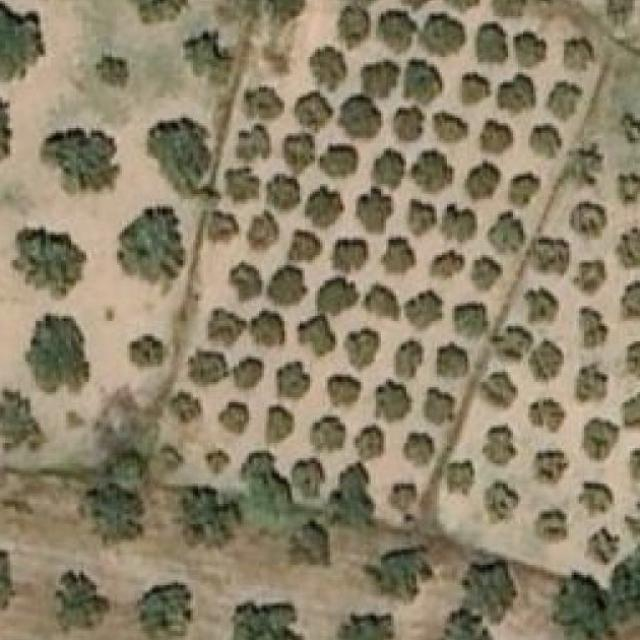Tree: (39, 128, 123, 199), (14, 224, 90, 298), (117, 204, 186, 284), (29, 313, 90, 392), (550, 572, 614, 640), (183, 486, 244, 550), (0, 0, 45, 80), (56, 570, 110, 634), (137, 582, 193, 640), (81, 487, 137, 542), (330, 464, 374, 534), (0, 390, 46, 456), (232, 600, 306, 640), (611, 546, 640, 640), (182, 30, 232, 84), (163, 120, 208, 179), (467, 560, 511, 618), (371, 550, 422, 600), (338, 0, 382, 47), (412, 148, 455, 194), (308, 44, 348, 92), (342, 326, 381, 375), (404, 60, 445, 106), (425, 11, 465, 57), (305, 184, 345, 229), (404, 289, 445, 332), (496, 75, 536, 119), (295, 316, 335, 360), (581, 418, 620, 463), (315, 275, 359, 314), (127, 0, 188, 28), (332, 612, 393, 640), (267, 265, 308, 306), (569, 202, 607, 243), (488, 212, 526, 253), (439, 202, 477, 243), (528, 240, 572, 275), (528, 394, 567, 433), (571, 365, 609, 405), (486, 482, 521, 525), (576, 481, 615, 519), (188, 349, 229, 385), (438, 610, 487, 640), (465, 162, 501, 202), (547, 80, 582, 121), (290, 522, 325, 563), (328, 238, 369, 273), (359, 192, 394, 233), (483, 426, 516, 469), (467, 255, 503, 294), (282, 130, 318, 169), (384, 235, 420, 273), (523, 286, 559, 324), (295, 92, 333, 128), (267, 174, 303, 212), (274, 362, 310, 400), (340, 98, 379, 133), (325, 375, 364, 410), (244, 214, 279, 253), (364, 282, 399, 321), (127, 336, 171, 367), (264, 402, 295, 446), (376, 382, 409, 423), (361, 57, 399, 92), (533, 451, 569, 487), (323, 146, 359, 182), (234, 355, 264, 398), (528, 123, 564, 158), (379, 11, 414, 47), (478, 369, 515, 403), (97, 49, 130, 87), (244, 87, 284, 118), (237, 126, 272, 161), (481, 118, 516, 153), (288, 230, 323, 265), (457, 72, 491, 108), (584, 527, 618, 563), (561, 37, 595, 73), (477, 23, 508, 62), (406, 199, 437, 238), (394, 338, 425, 377), (232, 262, 262, 301), (574, 260, 604, 299), (313, 416, 346, 451), (227, 167, 260, 202), (614, 227, 640, 271), (432, 111, 470, 141), (289, 458, 318, 497), (440, 461, 473, 495), (581, 308, 610, 346), (508, 172, 541, 205), (252, 311, 285, 344), (394, 106, 425, 141), (374, 151, 404, 187), (218, 400, 249, 434), (430, 250, 465, 280), (0, 546, 15, 616), (536, 509, 567, 542), (437, 344, 467, 378), (569, 148, 599, 182), (493, 331, 528, 360), (513, 31, 547, 60), (530, 341, 559, 375), (404, 433, 435, 463), (455, 306, 486, 336), (427, 392, 455, 423), (388, 484, 417, 512), (208, 212, 234, 243), (490, 0, 533, 18), (621, 387, 640, 427), (356, 428, 381, 458), (606, 0, 634, 26), (208, 314, 237, 339), (621, 280, 640, 317), (619, 173, 640, 204), (206, 451, 232, 476), (627, 334, 640, 380), (173, 395, 196, 421), (625, 499, 640, 537), (622, 112, 640, 141), (445, 0, 480, 14), (159, 446, 178, 471), (627, 448, 640, 482)
